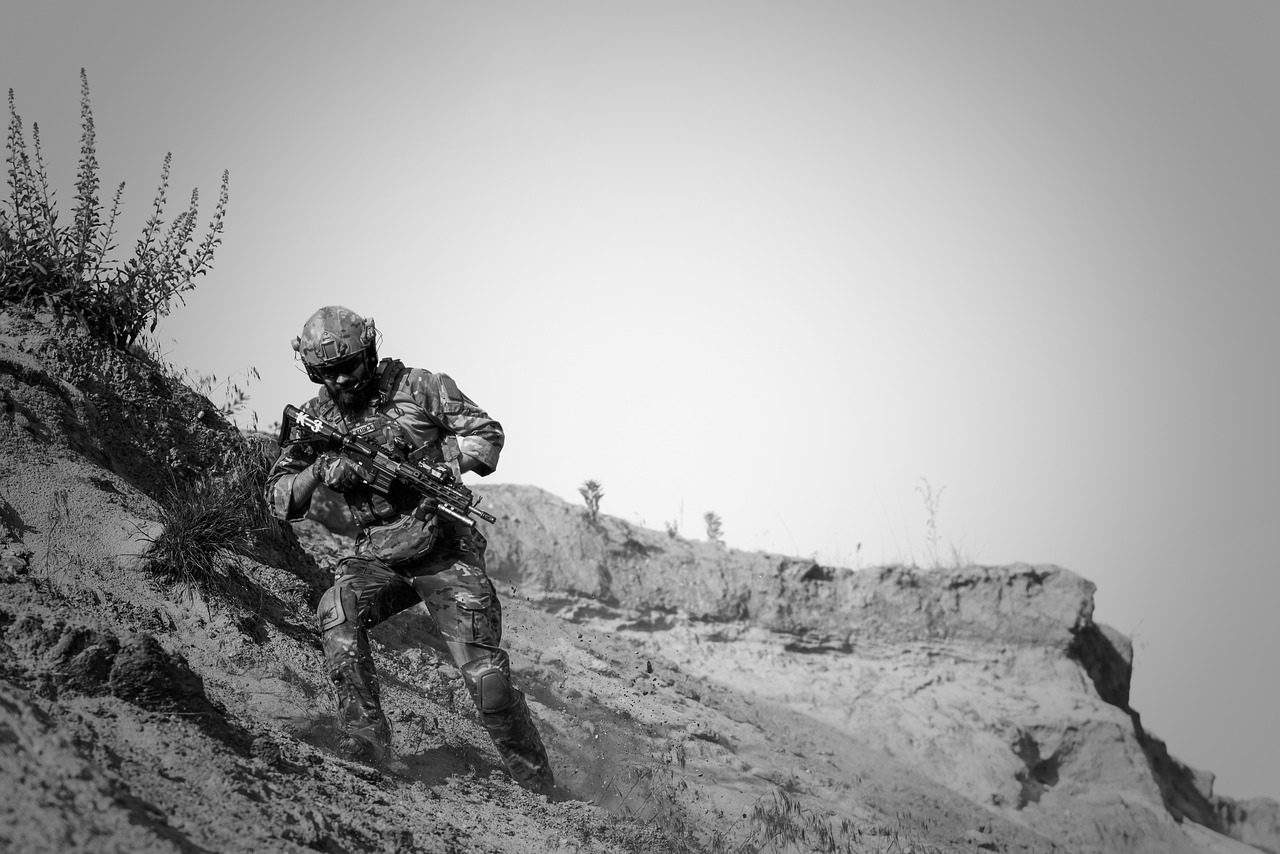gun: (274, 400, 502, 534)
